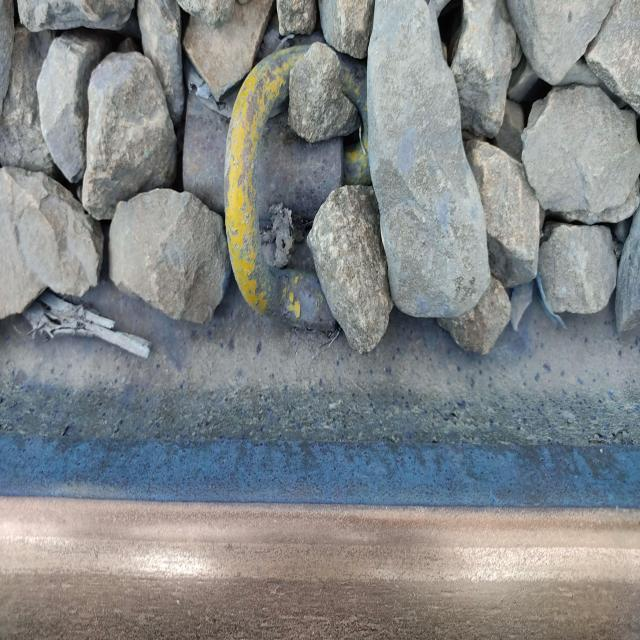Good Fasteners: (183, 45, 371, 331)
